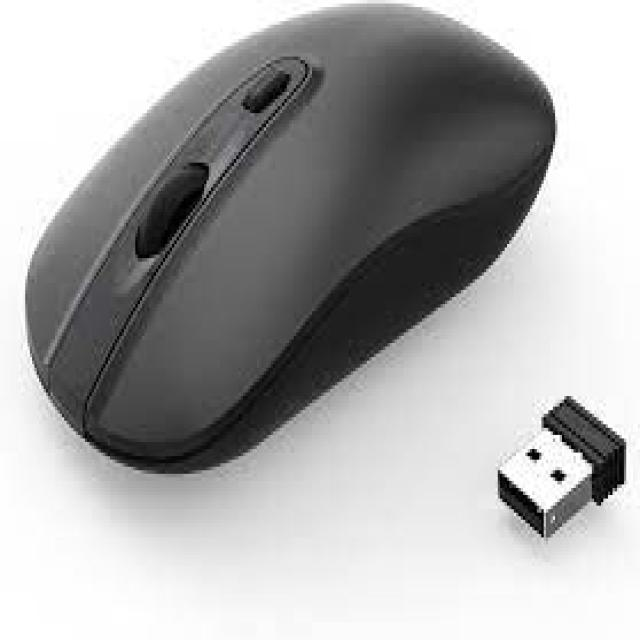mouse: (21, 7, 557, 404)
